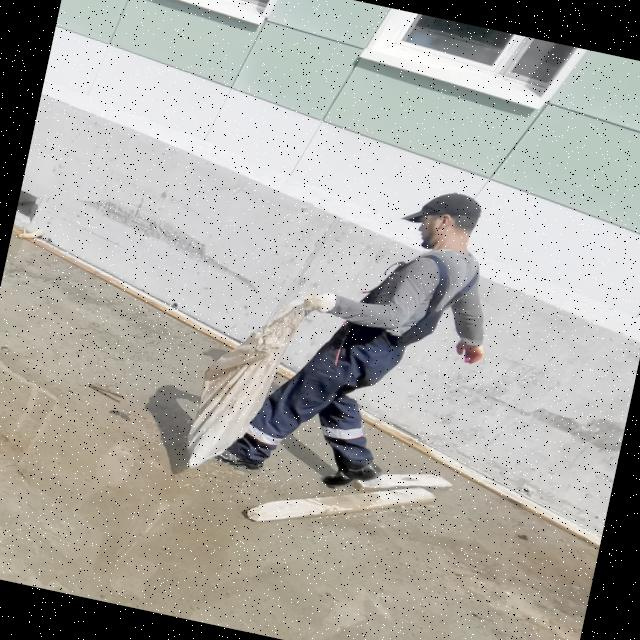NoHelmet: (396, 182, 488, 261)
